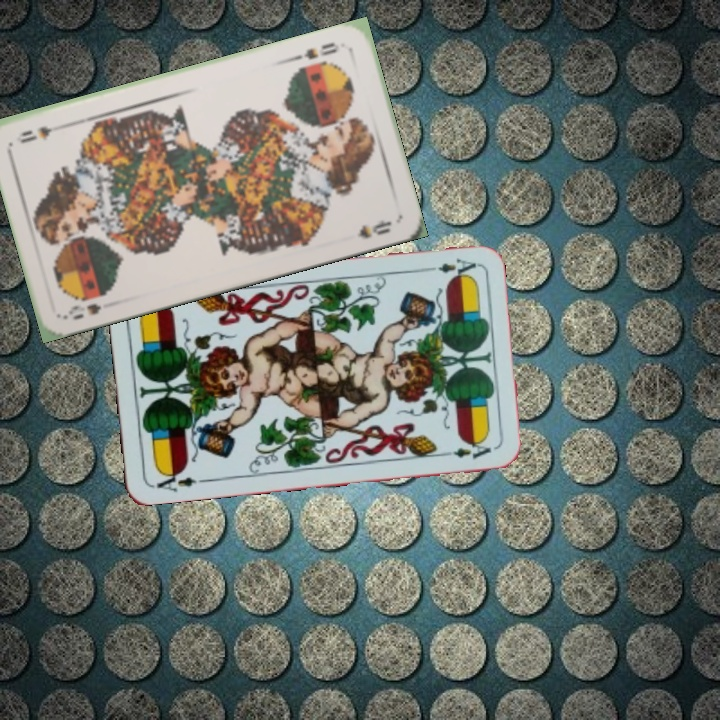EA: (150, 466, 209, 494), (419, 254, 479, 279)
SO: (289, 38, 340, 63), (61, 299, 104, 323)
